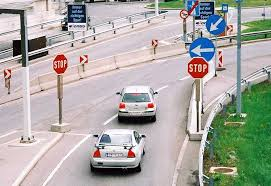stop sign: (187, 57, 209, 79), (53, 53, 68, 74)
